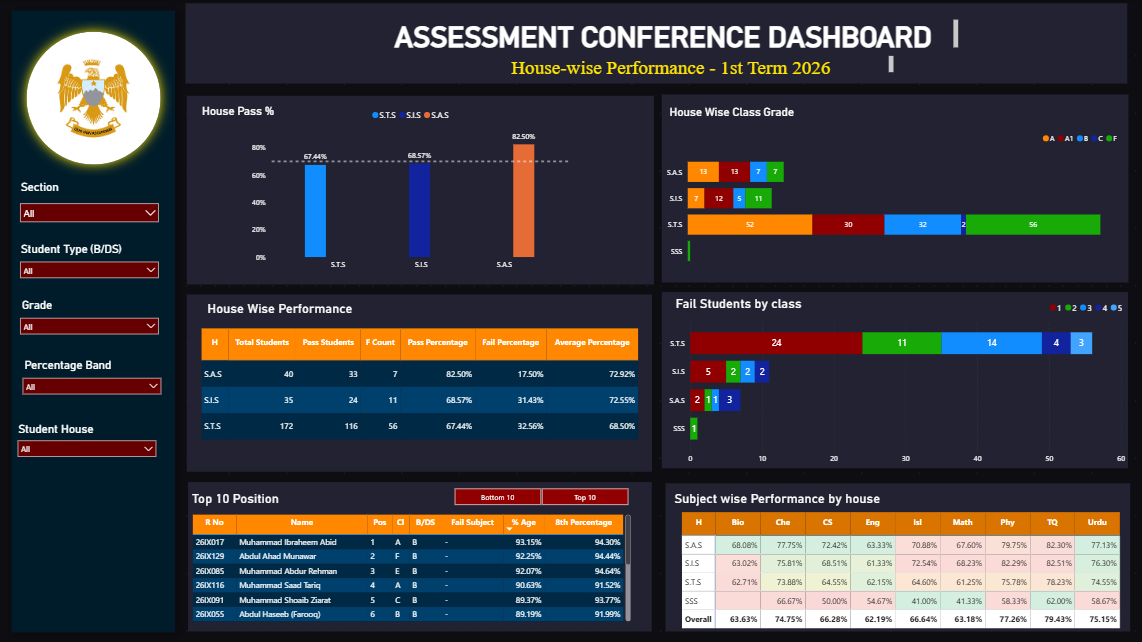

What the dashboard file says about the page in this screenshot:
{"tool":"powerbi","page":{"name":"House wise Performance","canvas":[1920,1080],"ordinal":3},"visuals":[{"type":"shape","box":[0,0,315,1080],"z":0},{"type":"shape","box":[303.3,0,1590,151.7],"z":1000},{"type":"shape","box":[304.4,154.3,797.5,332.5],"z":2000},{"type":"shape","box":[304.4,485.6,794.4,313.3],"z":3000},{"type":"textbox","box":[332.5,500,275,40],"z":4000},{"type":"shape","box":[26.9,37.7,261.5,259.2],"z":5000},{"type":"image","box":[82.5,91.7,149.2,150.8],"z":6000},{"type":"textbox","box":[620,31.2,986.2,60],"z":7000},{"type":"textbox","box":[754.2,91.7,745,41.7],"z":8000},{"type":"textbox","box":[333.2,173.1,356.2,41.2],"z":9000},{"type":"shape","box":[1098,482,796,312],"z":10000},{"type":"barChart","fields":{"Series":["9th result.F Sub"],"Y":["Measures Table.Total Students"],"Category":["9th result.H"]},"box":[1110.3,496,775,290],"z":11000},{"type":"textbox","box":[1124.9,491.6,275,40],"z":12000},{"type":"shape","box":[306,800,792,267],"z":13000},{"type":"shape","box":[1098.3,153.3,796.7,331.7],"z":14000},{"type":"barChart","fields":{"Category":["9th result.H"],"Y":["CountNonNull(9th result.Grd)"],"Series":["9th result.Grd"]},"box":[1105.7,214.3,770,248.6],"z":15000},{"type":"textbox","box":[1114,176,356,40],"z":16000},{"type":"shape","box":[1103.3,801.7,793.3,265],"z":17000},{"type":"tableEx","fields":{"Values":["9th result.R No","9th result.Name","9th result.Pos","9th result.Cl","9th result.B/DS","9th result.F Sub","9th result.% Age","9th result.8th Percentage"]},"box":[317.1,858.6,742.9,188.6],"z":18000},{"type":"textbox","box":[317.5,818.8,273.8,40],"z":19000},{"type":"textbox","box":[1122.9,818.6,382.9,40],"z":20000},{"type":"slicer","fields":{"Values":["ToggleTable.View Toggle"]},"box":[735.4,811.5,340,41.5],"z":21000},{"type":"clusteredColumnChart","fields":{"Category":["9th result.H"],"Y":["Measures Table.Pass Percentage"],"Series":["9th result.H"]},"box":[417.1,175.7,542.9,287.1],"z":22000},{"type":"tableEx","fields":{"Values":["9th result.H","Measures Table.Total Students","Measures Table.Pass Students","Measures Table.F Count","Measures Table.Pass Percentage","Measures Table.Fail Percentage","Measures Table.Average Percentage"]},"box":[331.1,546.7,742.2,197.8],"z":23000},{"type":"pivotTable","fields":{"Values":["Measures Table.B Avg","Measures Table.C Avg","Measures Table.CS Avg","Measures Table.E Avg","Measures Table.Isl Avg","Measures Table.M Avg","Measures Table.Phy Avg","Measures Table.TQ Avg","Measures Table.U Avg"],"Rows":["9th result.H"]},"box":[1134.3,852.9,742.9,214.3],"z":24000},{"type":"slicer","fields":{"Values":["9th result.Name"]},"box":[24.3,326.7,251.2,68.8],"z":25000},{"type":"textbox","box":[32,300.3,192.5,31.2],"z":26000},{"type":"slicer","fields":{"Values":["9th result.B/DS"]},"box":[24.3,429.6,251.2,55],"z":27000},{"type":"textbox","box":[32.3,403.1,192.5,31.2],"z":28000},{"type":"group","id":"g1","title":"Group 3","box":[25.7,496.3,251.2,81.5],"z":29000},{"type":"slicer","fields":{"Values":["9th result.Clean House"]},"box":[20,729.2,251.2,55],"z":30000},{"type":"textbox","box":[28,702.7,192.5,31.2],"z":31000},{"type":"group","id":"g2","title":"Group 4","box":[28.6,596.7,251.3,81.5],"z":32000},{"type":"slicer","fields":{"Values":["9th result.Grd"]},"box":[25.7,522.8,251.2,55],"z":33000,"group":"g1"},{"type":"textbox","box":[33.7,496.3,192.5,31.2],"z":34000,"group":"g1"},{"type":"slicer","fields":{"Values":["9th result.Percentage Band"]},"box":[28.6,623.2,251.2,55],"z":35000,"group":"g2"},{"type":"textbox","box":[36.6,596.7,192.5,31.2],"z":36000,"group":"g2"}]}

Visuals, with their boxes in screenshot pixels (x1, y1, x2, y2), scaled from the page's 1920x1080 canvas onto the 1142x642 screenshot:
shape: rect(0, 0, 187, 641)
shape: rect(180, 0, 1126, 90)
shape: rect(181, 92, 655, 289)
shape: rect(181, 289, 654, 475)
textbox: rect(198, 297, 361, 321)
shape: rect(16, 22, 172, 176)
image: rect(49, 55, 138, 144)
textbox: rect(369, 19, 955, 54)
textbox: rect(449, 55, 892, 79)
textbox: rect(198, 103, 410, 127)
shape: rect(653, 287, 1127, 472)
barChart - 9th result.F Sub x Measures Table.Total Students: rect(660, 295, 1121, 467)
textbox: rect(669, 292, 833, 316)
shape: rect(182, 476, 653, 634)
shape: rect(653, 91, 1127, 288)
barChart - 9th result.H x CountNonNull(9th result.Grd): rect(658, 127, 1116, 275)
textbox: rect(663, 105, 874, 128)
shape: rect(656, 477, 1128, 634)
tableEx - 9th result.R No x 9th result.Name: rect(189, 510, 630, 623)
textbox: rect(189, 487, 352, 511)
textbox: rect(668, 487, 896, 510)
slicer - ToggleTable.View Toggle: rect(437, 482, 640, 507)
clusteredColumnChart - 9th result.H x Measures Table.Pass Percentage: rect(248, 104, 571, 275)
tableEx - 9th result.H x Measures Table.Total Students: rect(197, 325, 638, 443)
pivotTable - Measures Table.B Avg x Measures Table.C Avg: rect(675, 507, 1117, 634)
slicer - 9th result.Name: rect(14, 194, 164, 235)
textbox: rect(19, 179, 134, 197)
slicer - 9th result.B/DS: rect(14, 255, 164, 288)
textbox: rect(19, 240, 134, 258)
"Group 3" group: rect(15, 295, 165, 343)
slicer - 9th result.Clean House: rect(12, 433, 161, 466)
textbox: rect(17, 418, 131, 436)
"Group 4" group: rect(17, 355, 166, 403)
slicer - 9th result.Grd: rect(15, 311, 165, 343)
textbox: rect(20, 295, 135, 314)
slicer - 9th result.Percentage Band: rect(17, 370, 166, 403)
textbox: rect(22, 355, 136, 373)
